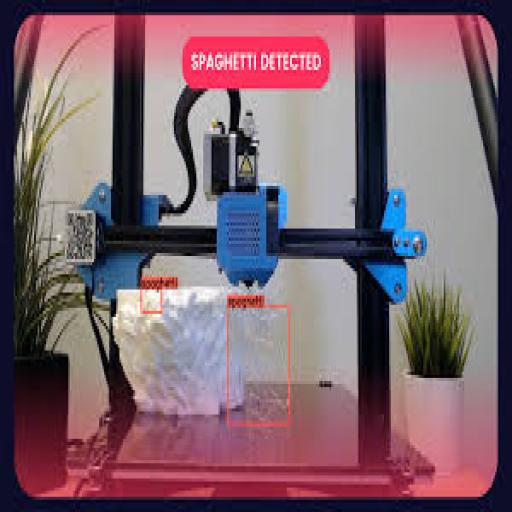spaghetti: (227, 298, 292, 428)
